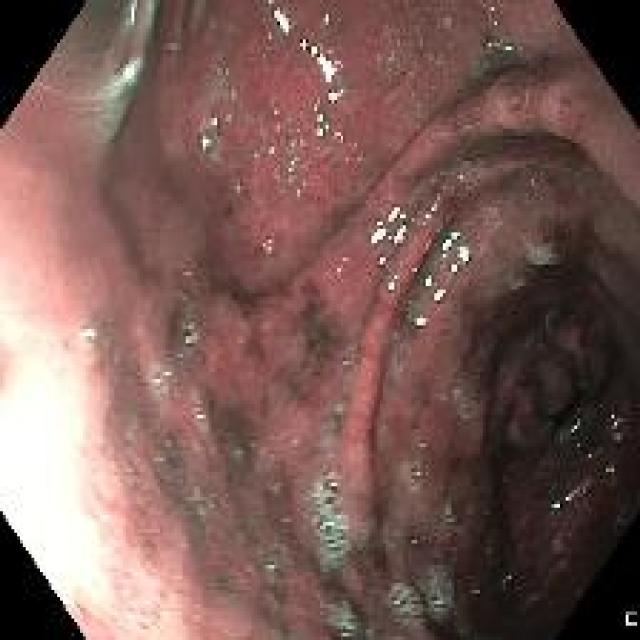blood: (391, 32, 631, 619), (94, 77, 264, 306), (84, 299, 201, 593), (195, 378, 311, 638), (277, 273, 357, 407), (206, 270, 292, 369), (361, 492, 417, 623), (315, 557, 367, 638), (160, 303, 211, 378)
blur: (389, 220, 618, 590), (140, 277, 333, 595)
bubbles: (312, 471, 346, 560), (421, 566, 452, 616), (327, 600, 362, 638), (451, 381, 481, 424), (176, 298, 199, 354), (393, 587, 421, 626), (526, 236, 558, 269), (442, 500, 464, 532), (79, 317, 100, 345), (158, 360, 178, 384), (402, 462, 421, 487), (468, 579, 488, 602), (585, 446, 608, 464), (408, 527, 422, 555), (604, 460, 617, 479), (148, 369, 160, 389), (501, 573, 516, 588), (339, 356, 352, 373), (529, 169, 541, 185), (396, 361, 408, 376), (367, 623, 378, 636), (573, 439, 584, 451)
saturation: (3, 306, 118, 627)
specularity: (369, 197, 408, 273), (483, 5, 516, 53), (307, 102, 331, 145), (270, 4, 293, 40), (450, 245, 470, 284), (318, 52, 338, 80), (437, 220, 455, 251), (383, 271, 401, 300), (412, 306, 429, 331), (421, 198, 436, 224), (324, 85, 344, 103), (320, 9, 334, 31), (403, 256, 419, 275), (336, 125, 347, 147), (297, 35, 309, 55), (419, 271, 433, 287), (309, 39, 318, 58), (569, 420, 581, 434), (81, 326, 94, 338), (266, 561, 278, 574), (319, 517, 333, 528), (428, 290, 445, 299), (324, 500, 335, 513), (551, 499, 560, 512), (611, 413, 619, 427), (564, 490, 573, 502), (199, 134, 207, 147), (211, 113, 218, 127), (164, 366, 172, 378), (152, 374, 159, 385), (329, 481, 336, 489), (197, 414, 203, 421)
